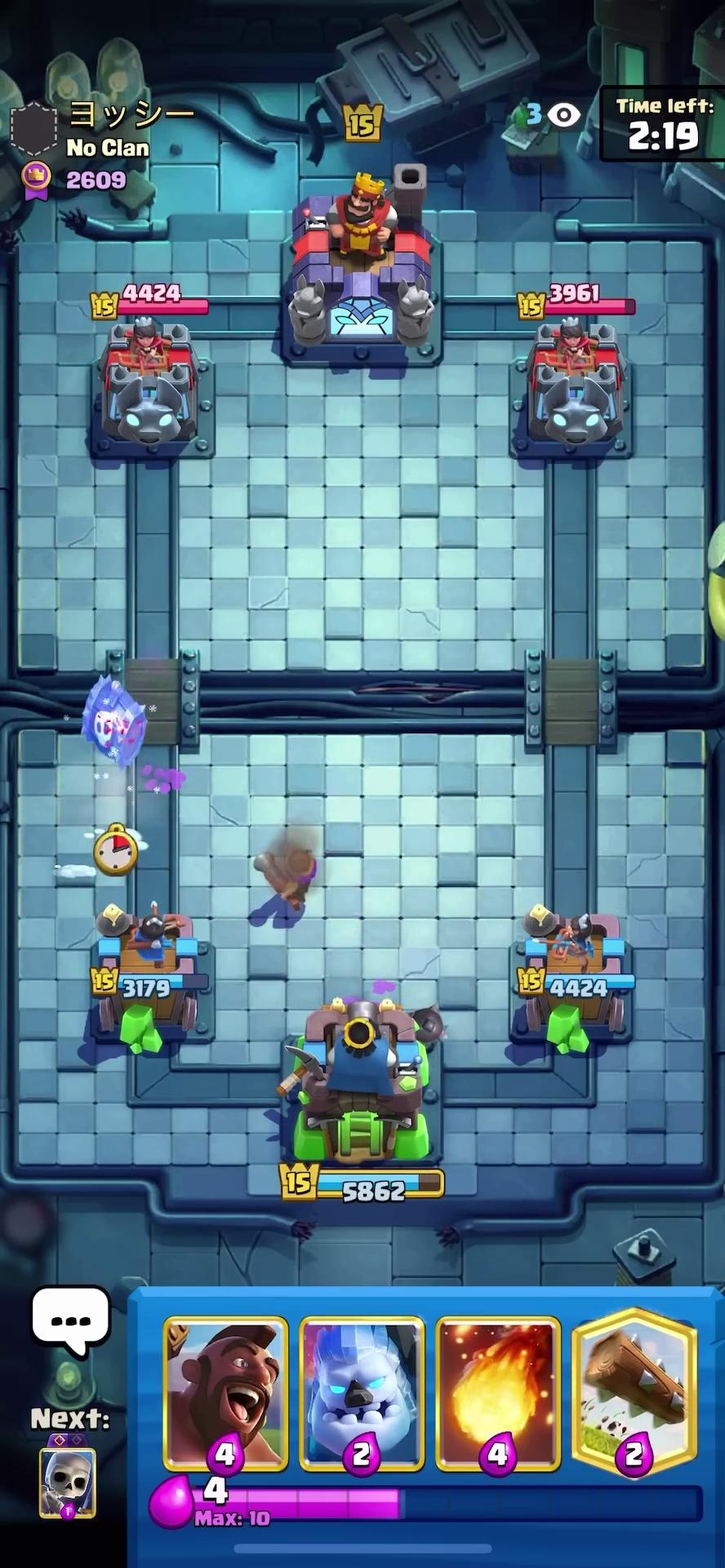musketeer: (237, 833, 335, 927)
